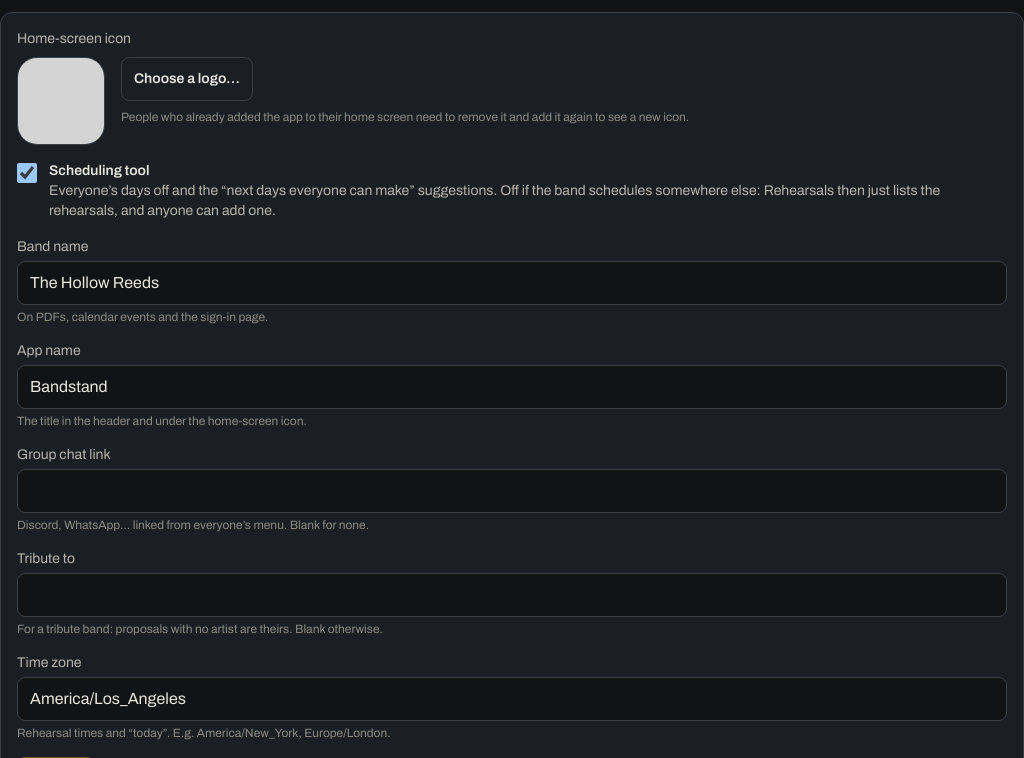
Test: BandSettings › shows why it couldn’t save
Replace the text in the field labelled "Time zone" with "Mars": (512, 699) [17,677,1007,721]
(page scrolled)
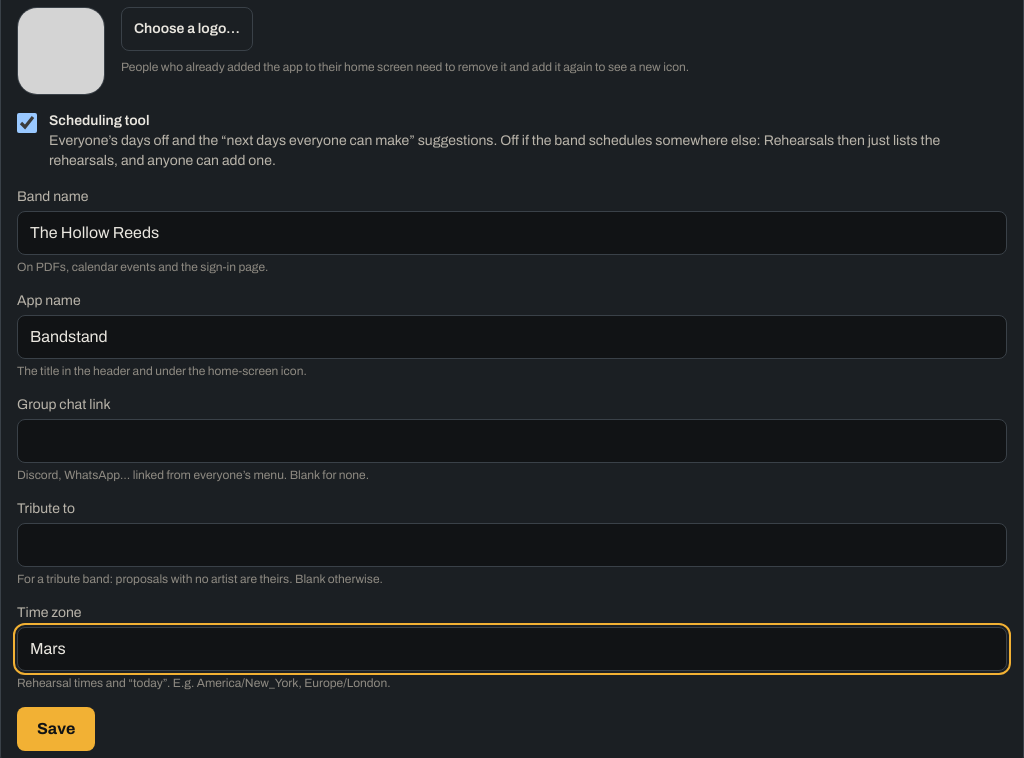
Click the button "Save": (56, 729) [17,707,95,751]
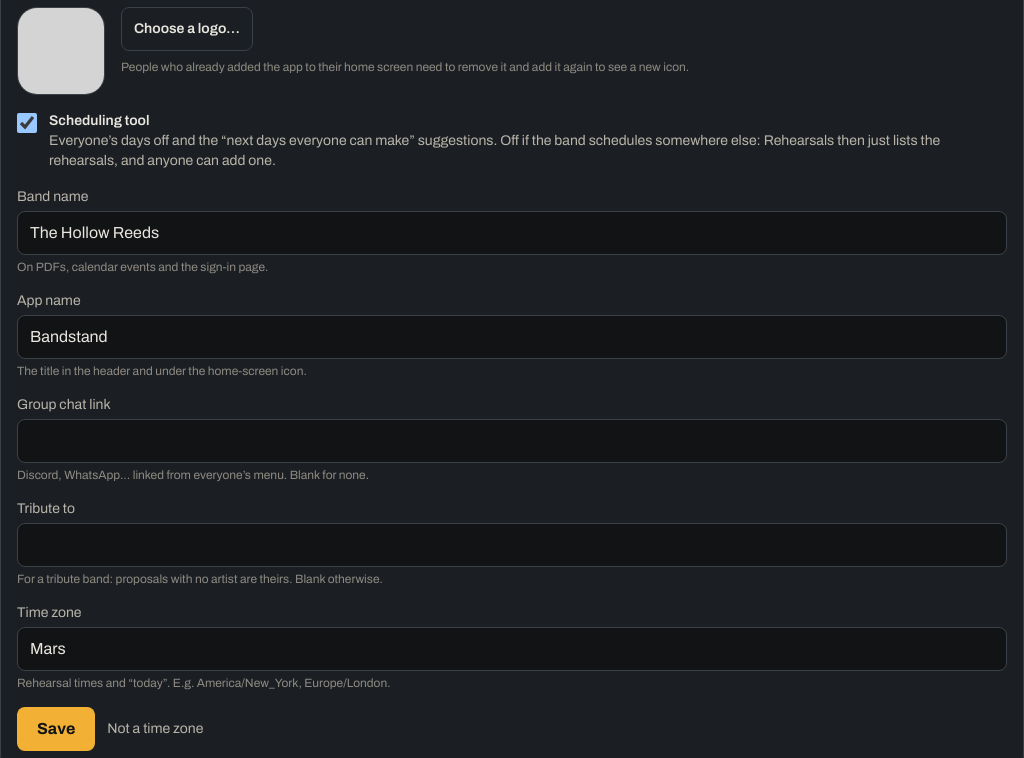
Now the text "Not a time zone" is shown, box [107,719,203,739]
